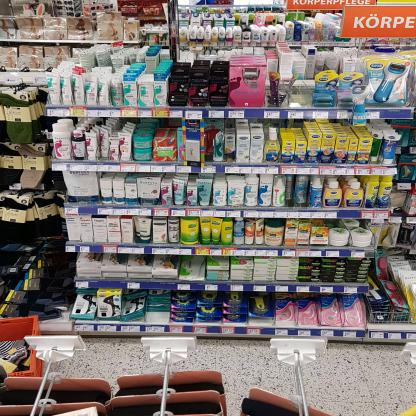Void: (148, 309, 167, 324), (157, 118, 174, 128)
